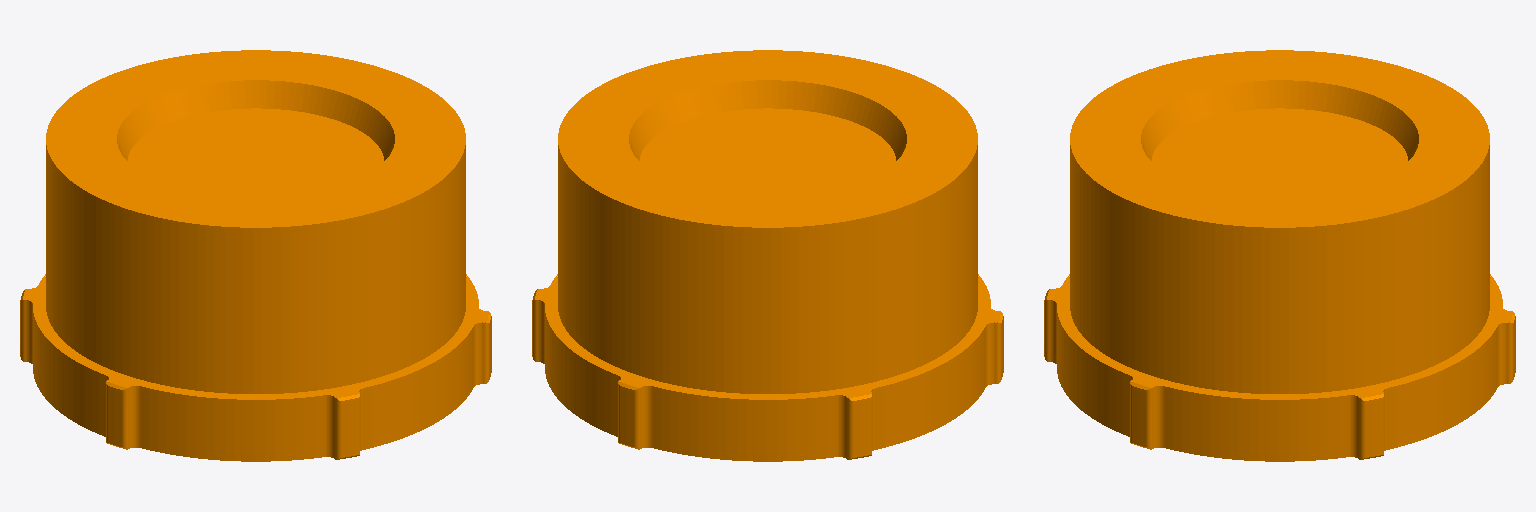
The robot description file, URDF, robot "socket":
<?xml version="1.0" ?>
<robot name="socket">
  <link name="socket_link">
    <contact>
      <!-- <lateral_friction value="1.0"/>
      <rolling_friction value="0.5"/>
      <contact_cfm value="0.0"/>
      <contact_erp value="1.0"/> -->
    </contact>
    <inertial>
      <origin rpy="0 0 0" xyz="-0.0225 0.0225 0"/>
        <mass value="0.1"/>
        <inertia ixx="0.01" ixy="0" ixz="0" iyy="0.01" iyz="0" izz="0.01"/>
    </inertial>
    <visual>
      <origin rpy="-1.570796 0 0" xyz="0 0 0.0225"/>
      <geometry>
			  <mesh filename="meshes/socket/socket.stl" scale="0.001 0.001 0.001"/>
      </geometry>
      <material name="orange">
        <color rgba="1 0.6 0 1"/>
      </material>
    </visual>
    <collision>
      <origin rpy="-1.570796 0 0" xyz="0 0 0.0225"/>
      <geometry>
	 	    <mesh filename="meshes/socket/socket.stl" scale="0.001 0.001 0.001"/>
      </geometry>
    </collision>
  </link>
  <link name="socket_target_link">
    <inertial>
      <mass value="0" />
      <origin rpy="0 0 0" xyz="0.0 0.0 0.0" />
      <inertia ixx="0.0" ixy="0.0" ixz="0.0" iyy="0.0" iyz="0.0" izz="0.0" />
    </inertial>
  </link>
  <joint name="socket_link-socket_target_link" type="fixed">
    <parent link="socket_link"/>
    <child link="socket_target_link"/>
    <origin rpy="0.0 0.0 0.0" xyz="0.0 0.0 0.0"/>
  </joint>
</robot>

--- Facts derived from the render (not from the file) ---
Views: 3 orthographic renders of the robot side by side, from view 1: azimuth 30°, elevation 25°; view 2: azimuth 150°, elevation 25°; view 3: azimuth 270°, elevation 25°.
Model socket with 2 links and 1 joints (1 fixed), rooted at socket_link, posed all joints at 0.
Visible links, largest first — view 1: socket_link; view 2: socket_link; view 3: socket_link.
Boxes of the visible links, bbox=[...] form: socket_link: bbox=[20, 50, 491, 461]; socket_link: bbox=[532, 50, 1003, 461]; socket_link: bbox=[1044, 50, 1515, 461].
Bounding box of the posed robot: 0.085 × 0.0897 × 0.05 m (x, y, z).
Meshes: 1 distinct files referenced, 1 mesh visuals loaded (1 binary STL).